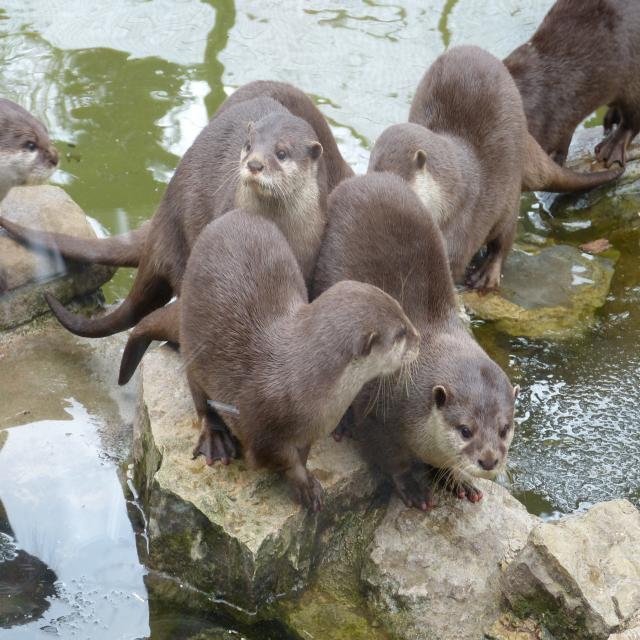otter: (185, 209, 421, 502), (320, 177, 520, 509), (369, 49, 544, 299), (140, 97, 328, 299), (504, 1, 640, 168), (1, 86, 60, 214)
